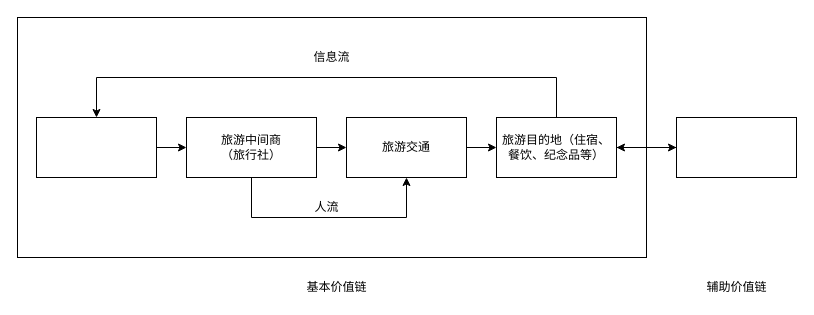
Image size: 814x315. Some labels were removed from this diagram. Here are the shapes that lost their labels. From the top down, the centre of each, then its label:
At (x=96, y=147): "旅游者".
At (x=736, y=147): "公共设施减少 旅游保险 广告宣传，等".
